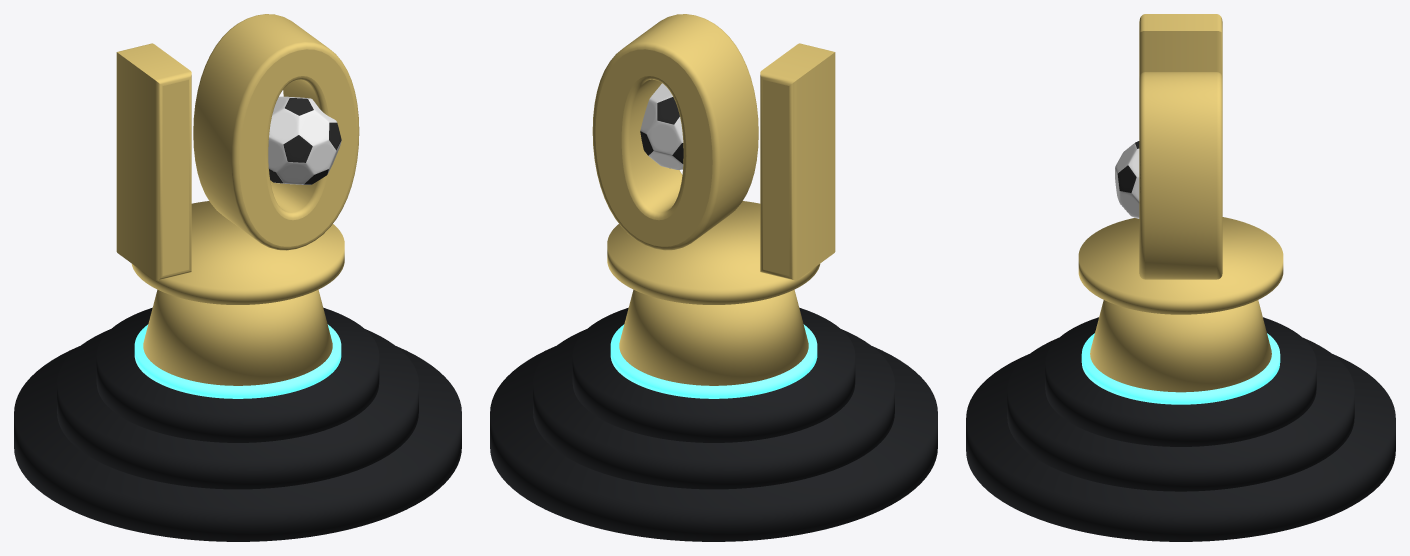
The model's file is trofeo_el_10.glb.
3 views of the same model, side by side, from view 1: azimuth 30°, elevation 25°; view 2: azimuth 150°, elevation 25°; view 3: azimuth 270°, elevation 25° (orthographic). The views are drawn at different scales.
Parts seen in each view (by area): view 1: Numero10, Base1, Base2, Base3, Column, TopPlate, Balon, EmeraldRing; view 2: Numero10, Base1, Base2, Base3, Column, TopPlate, EmeraldRing, Balon; view 3: Base1, Numero10, Base2, Base3, Column, TopPlate, EmeraldRing, Balon.
Part boxes in pixels (x1=…): Numero10: x1=116, y1=14, x2=359, y2=280; Base1: x1=14, y1=346, x2=461, y2=541; Base2: x1=57, y1=329, x2=418, y2=489; Base3: x1=96, y1=307, x2=379, y2=442; Column: x1=143, y1=289, x2=332, y2=385; TopPlate: x1=131, y1=201, x2=344, y2=304; Balon: x1=268, y1=96, x2=341, y2=184; EmeraldRing: x1=134, y1=324, x2=341, y2=398; Numero10: x1=592, y1=14, x2=835, y2=280; Base1: x1=490, y1=346, x2=937, y2=541; Base2: x1=533, y1=329, x2=894, y2=489; Base3: x1=572, y1=307, x2=855, y2=442; Column: x1=619, y1=289, x2=808, y2=385; TopPlate: x1=607, y1=201, x2=820, y2=304; EmeraldRing: x1=610, y1=324, x2=817, y2=398; Balon: x1=640, y1=83, x2=683, y2=169; Base1: x1=966, y1=354, x2=1395, y2=541; Numero10: x1=1139, y1=14, x2=1222, y2=279; Base2: x1=1007, y1=337, x2=1354, y2=491; Base3: x1=1045, y1=317, x2=1316, y2=446; Column: x1=1090, y1=300, x2=1271, y2=392; TopPlate: x1=1078, y1=217, x2=1283, y2=314; EmeraldRing: x1=1081, y1=333, x2=1280, y2=404; Balon: x1=1115, y1=141, x2=1139, y2=218.
Size of the model in its own units: 2.6 by 2.62 by 2.6.
